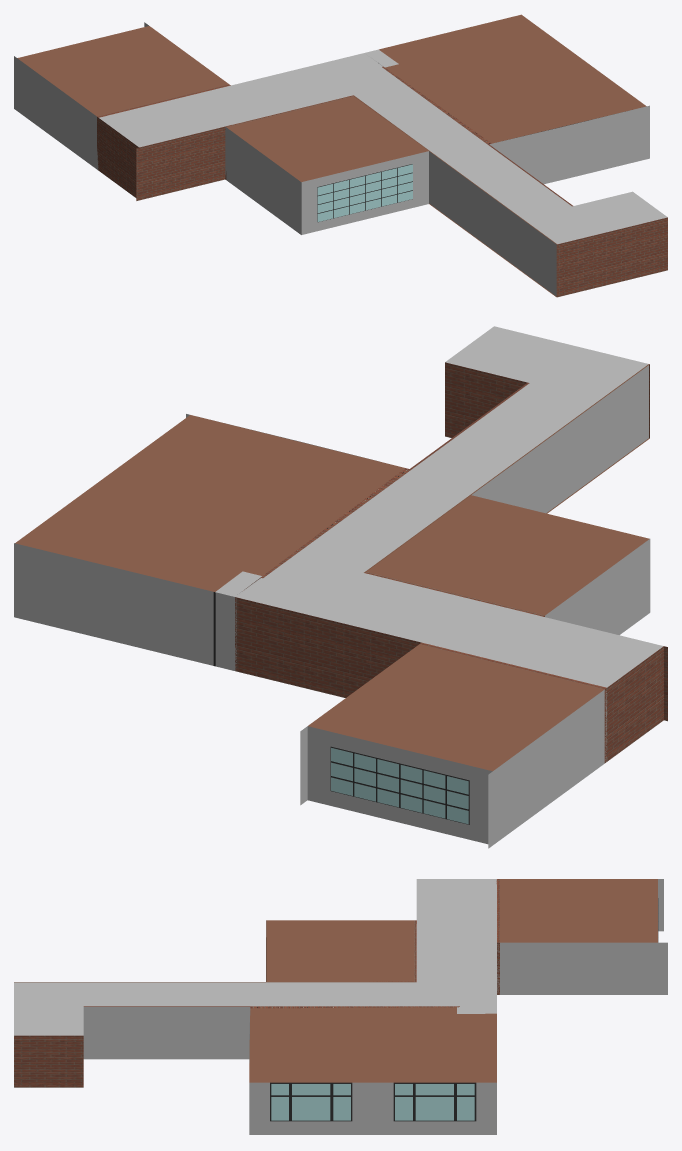
Rendered from Pasillo (2).fbx.
3 renders of one model, top to bottom at view 1: azimuth 30°, elevation 25°; view 2: azimuth 150°, elevation 25°; view 3: azimuth 270°, elevation 25°, orthographic. The views are drawn at different scales.
Parts seen in each view (by area): view 1: Pasillo; view 2: Pasillo; view 3: Pasillo.
Part boxes in pixels (bbox=[...]): Pasillo: bbox=[14, 14, 667, 297]; Pasillo: bbox=[14, 326, 667, 848]; Pasillo: bbox=[14, 879, 667, 1134].
Size of the model in its own units: 3359 by 396 by 4490.
Materials: 8 (2 with a texture image).
